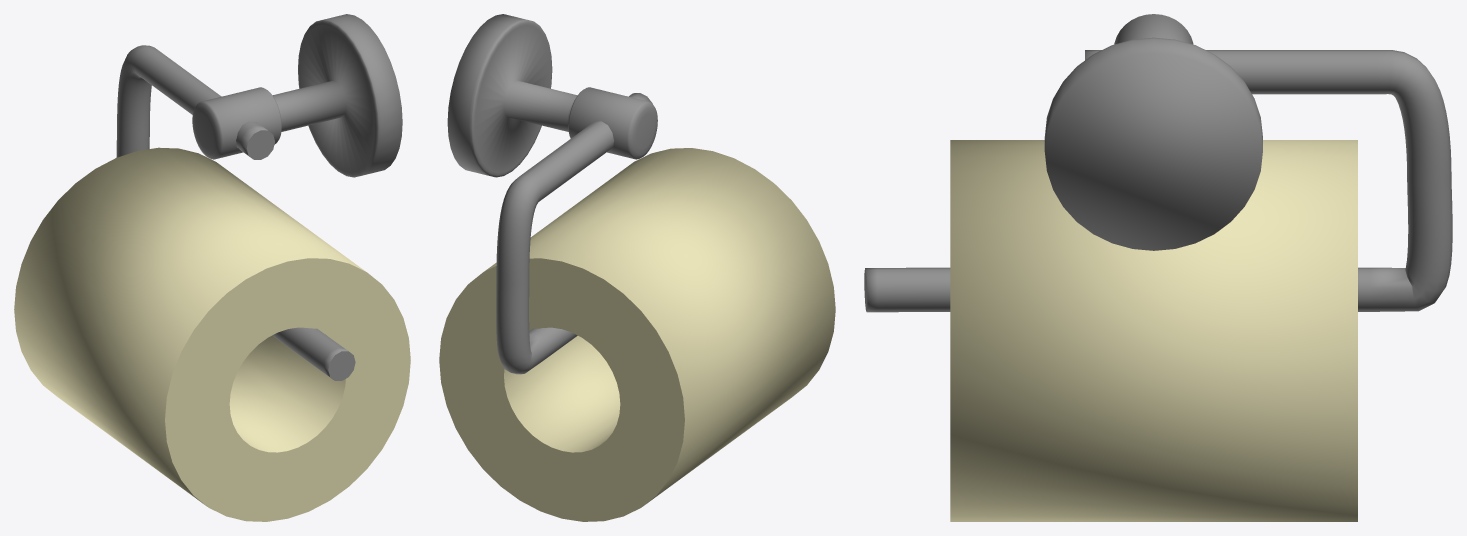
The model's file is toiletpaperAndHolder.fbx.
The picture shows the model from 3 angles, left to right: view 1: azimuth 30°, elevation 25°; view 2: azimuth 150°, elevation 25°; view 3: azimuth 270°, elevation 25°; orthographic projection. The views are drawn at different scales.
Visible parts, largest first — view 1: Toilet paper, Toilet paper holder; view 2: Toilet paper, Toilet paper holder; view 3: Toilet paper, Toilet paper holder.
Part boxes in pixels (left/top/right/bottom): Toilet paper: left=14, top=147, right=410, bottom=521; Toilet paper holder: left=116, top=14, right=402, bottom=380; Toilet paper: left=439, top=148, right=835, bottom=521; Toilet paper holder: left=447, top=14, right=657, bottom=374; Toilet paper: left=950, top=140, right=1357, bottom=521; Toilet paper holder: left=864, top=14, right=1452, bottom=312.
Bounding box in the file's own units: 0.3866 × 0.552 × 0.5349.
